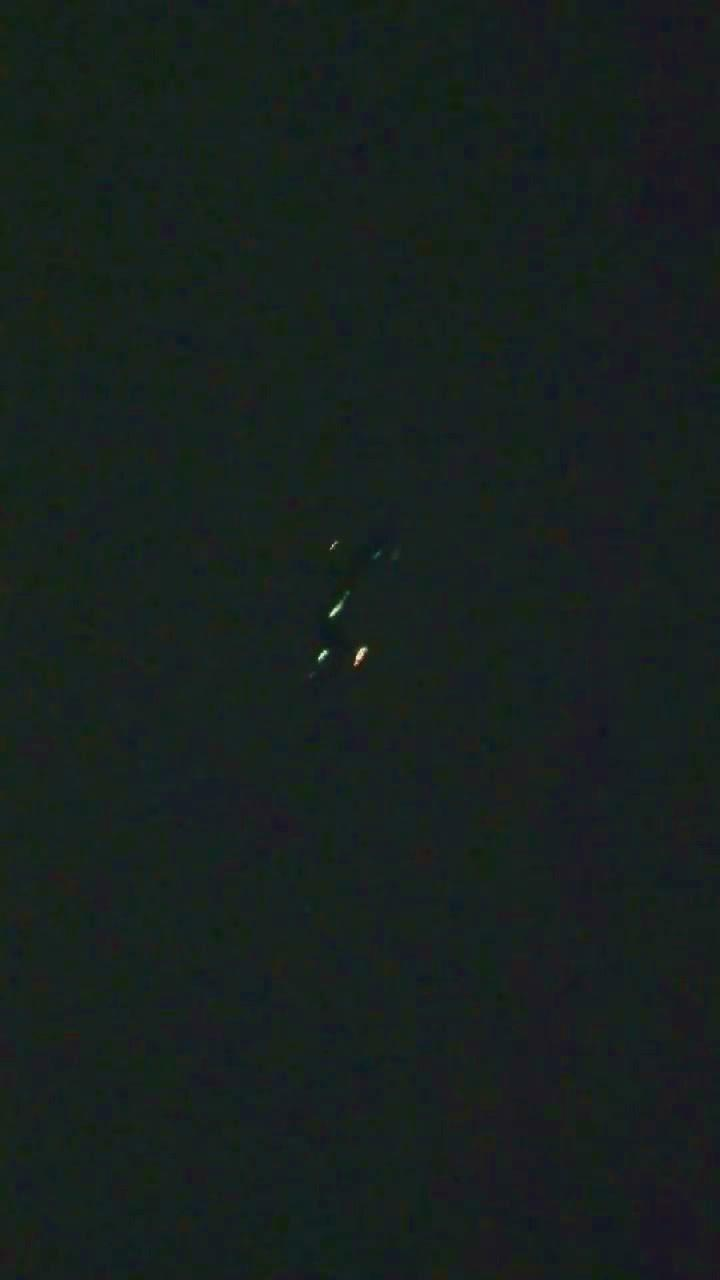Plane: (278, 566, 400, 700)
